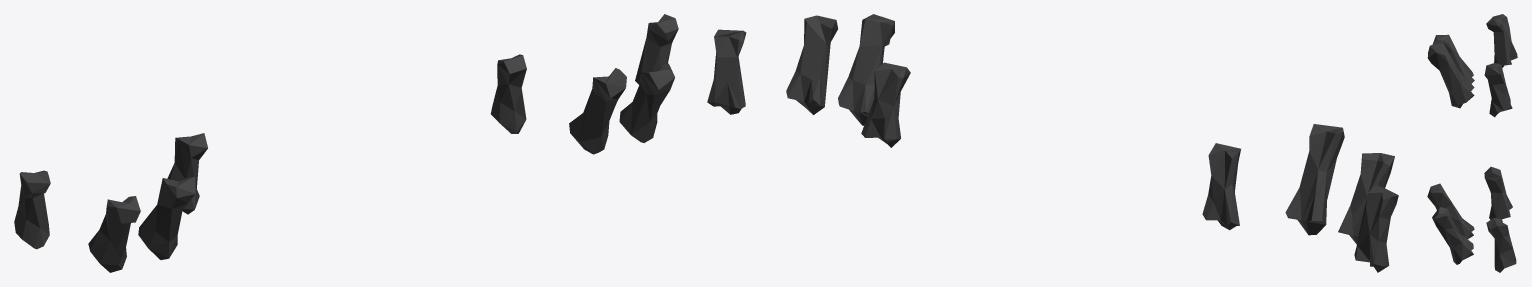
The picture shows the model from 3 angles, left to right: view 1: azimuth 30°, elevation 25°; view 2: azimuth 150°, elevation 25°; view 3: azimuth 270°, elevation 25°; orthographic projection. The views are drawn at different scales.
Visible parts, largest first — view 1: FL_P2; view 2: FL_P2; view 3: FL_P2.
Part boxes in pixels (<box>): FL_P2: <box>14,14,678,272</box>; FL_P2: <box>707,14,1398,272</box>; FL_P2: <box>1427,14,1517,272</box>.
Bounding box in the file's own units: 0.00462 × 0.000629 × 0.000832.
Materials: 1 (1 with a texture image).
